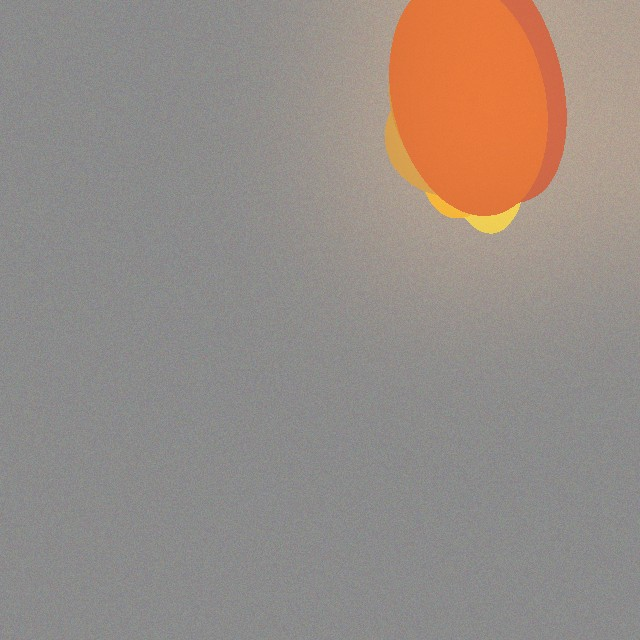fire: (414, 29, 548, 235)
